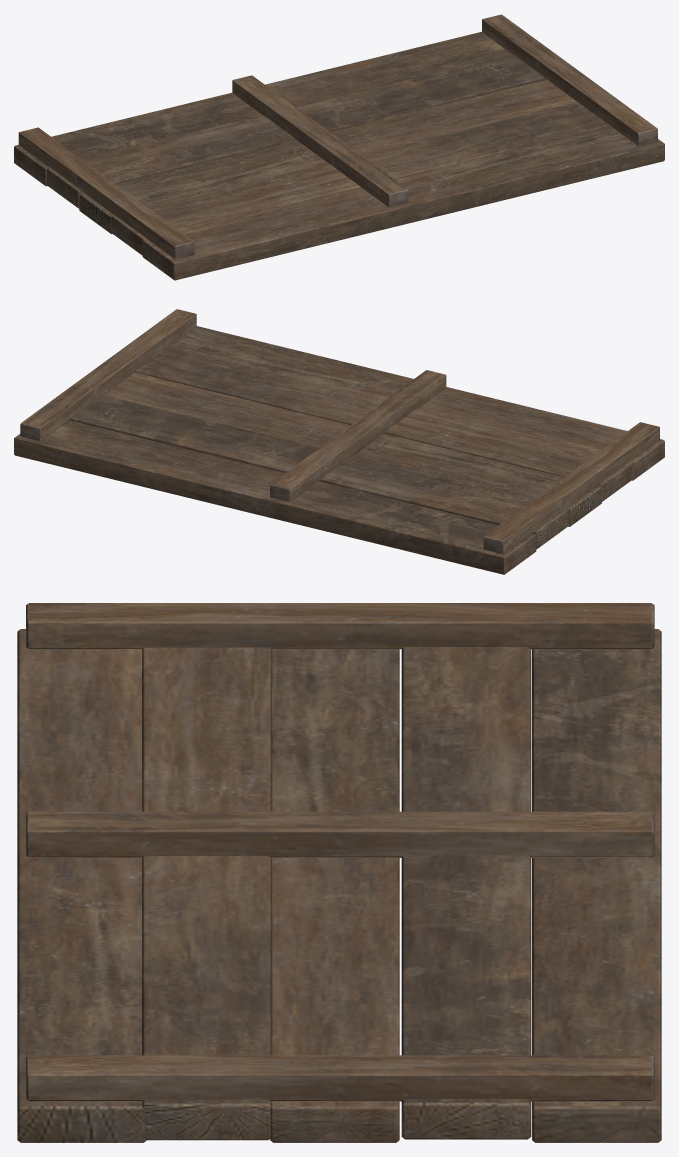
File: SM_Box_C_Lid.fbx
The picture shows the model from 3 angles, top to bottom: view 1: azimuth 30°, elevation 25°; view 2: azimuth 150°, elevation 25°; view 3: azimuth 270°, elevation 25°; orthographic projection. The views are drawn at different scales.
Visible parts, largest first — view 1: SM_Box_C_Lid_LOD0; view 2: SM_Box_C_Lid_LOD0; view 3: SM_Box_C_Lid_LOD0.
Boxes of the visible parts, <box> form: SM_Box_C_Lid_LOD0: <box>14,14,664,280</box>; SM_Box_C_Lid_LOD0: <box>14,309,664,574</box>; SM_Box_C_Lid_LOD0: <box>17,603,661,1142</box>.
Size of the model in its own units: 152 by 86.49 by 9.64.
Materials: 1 (1 with a texture image).
